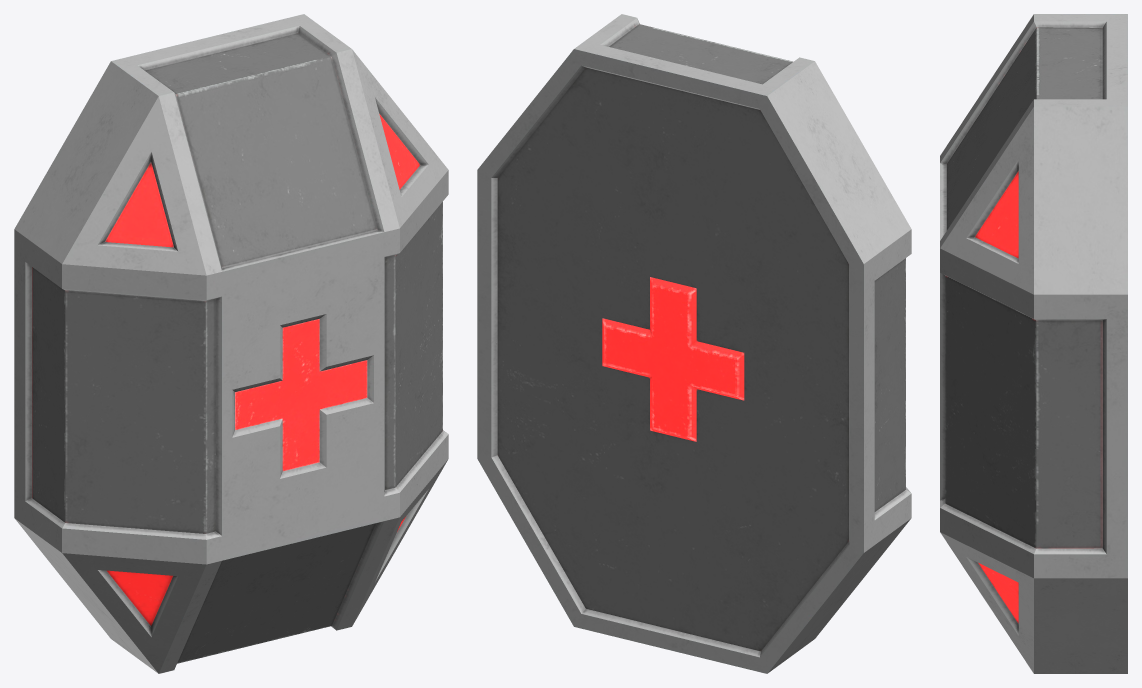
Rendered from healbox1.glb.
The picture shows the model from 3 angles, left to right: view 1: azimuth 30°, elevation 25°; view 2: azimuth 150°, elevation 25°; view 3: azimuth 270°, elevation 25°; orthographic projection.
Visible parts, largest first — view 1: Health; view 2: Health; view 3: Health.
Part boxes in pixels (left/top/right/bottom): Health: left=14, top=14, right=448, bottom=673; Health: left=477, top=14, right=911, bottom=673; Health: left=940, top=14, right=1127, bottom=673.
Bounding box in the file's own units: 0.2993 × 0.4276 × 0.1283.
Materials: 1 (1 with a texture image).
